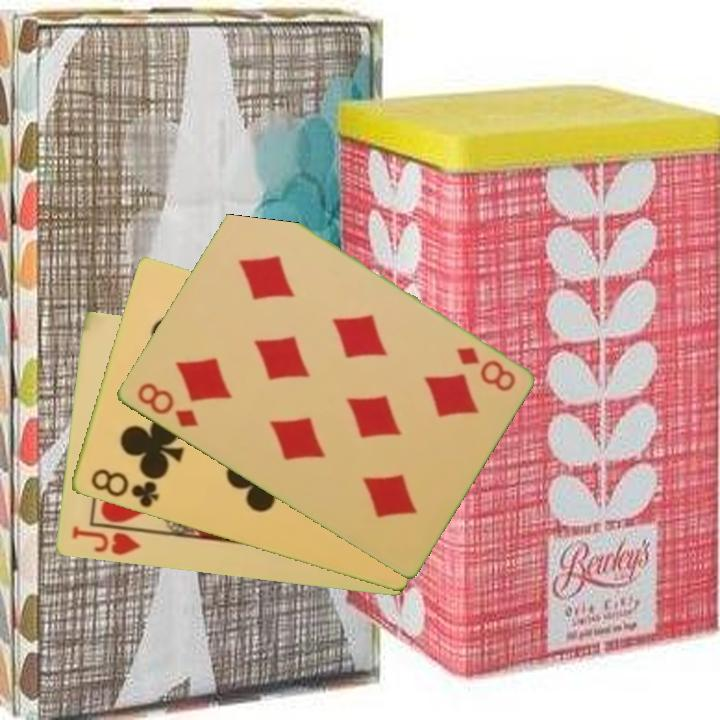8c: (87, 465, 162, 511)
8d: (133, 379, 201, 431), (452, 343, 518, 395)
Jh: (67, 522, 143, 559)
